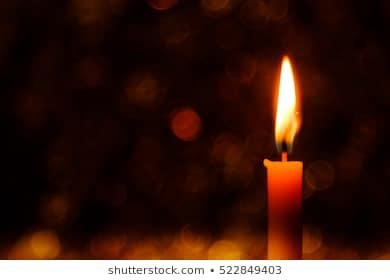fire: (272, 51, 298, 147)
